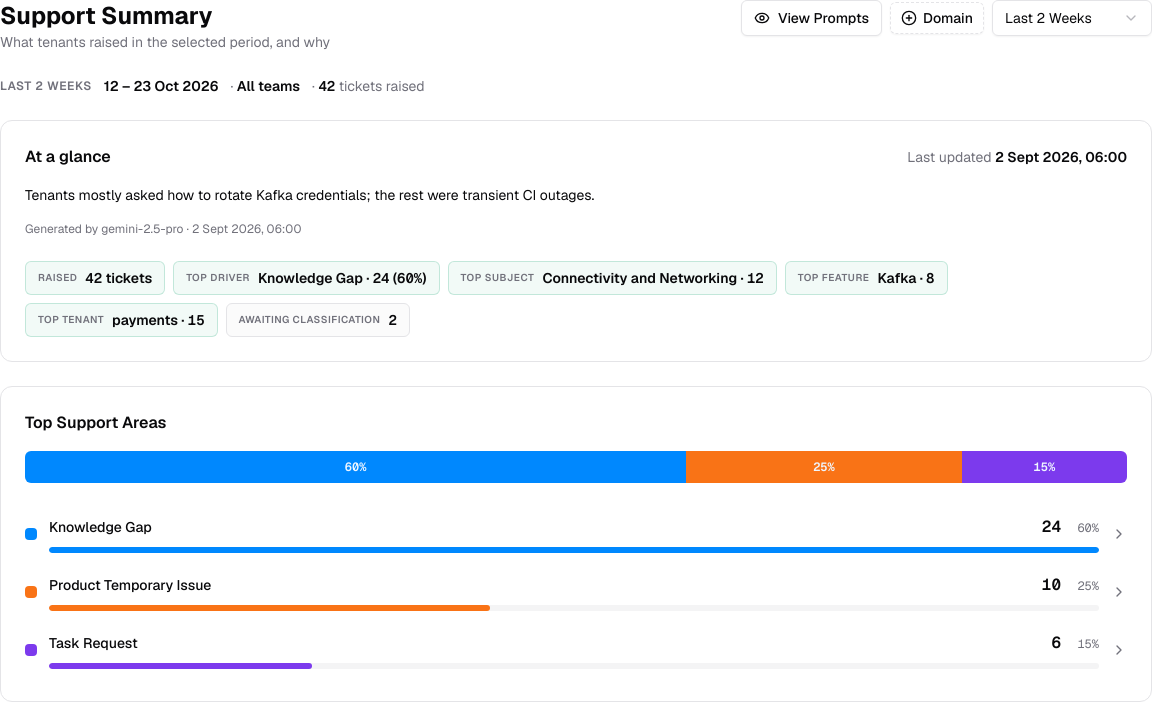
Test: SupportSummaryPage › Team groups › offers the groups under the deployment's name and narrows the summary to the one chosen
What coordinates should you click on to do the following:
click the button "Domain"
I would click on:
 (937, 18)
Its box is x1=890 y1=2 x2=984 y2=34.
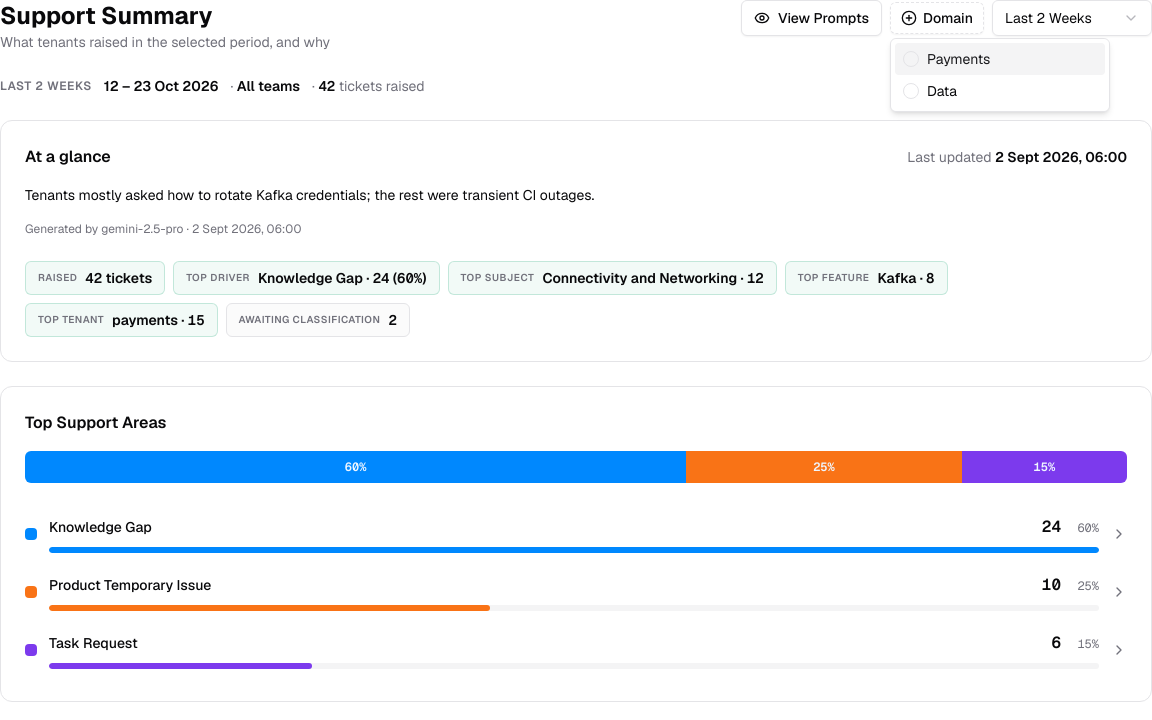
What coordinates should you click on to do the following:
click the option "Payments"
I would click on:
 (1000, 59)
Its box is x1=895 y1=43 x2=1105 y2=75.
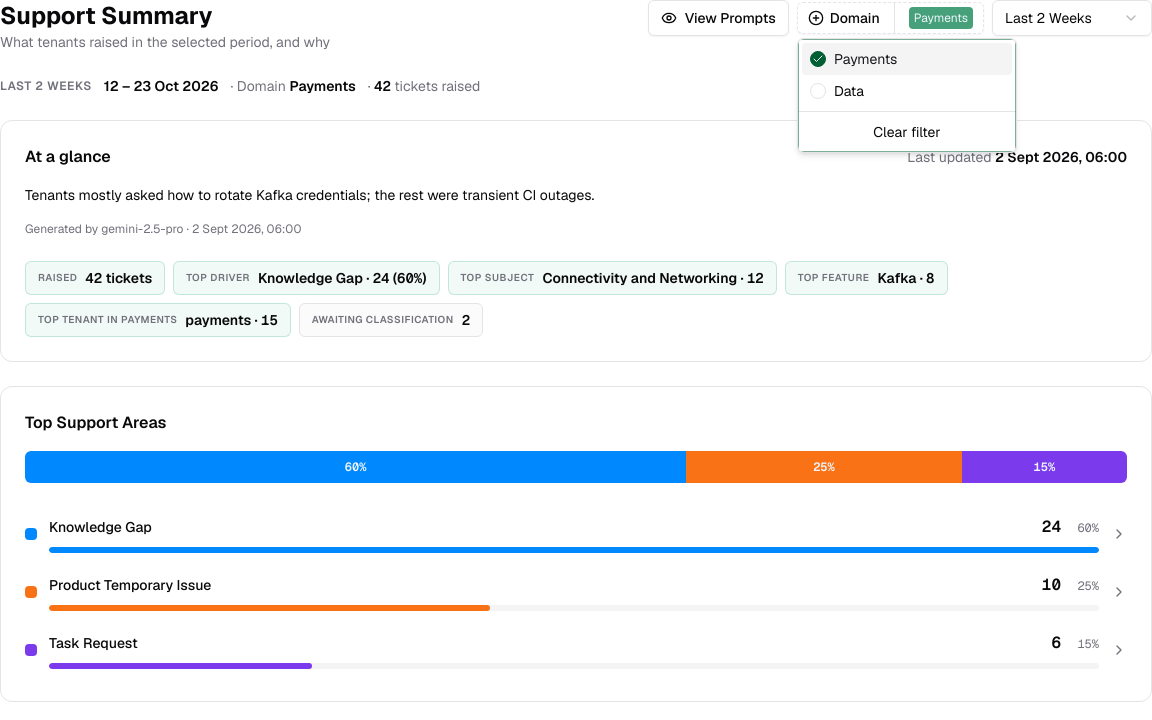
Now the element with test id "summary-scope" shows "Domain Payments", box x1=230 y1=76 x2=356 y2=96
Now the element titled "Teams: Payments Team, Ledger" next to "12 – 23 Oct 2026" is shown, box x1=237 y1=77 x2=356 y2=95
Now the text "Top tenant in Payments" is shown, box x1=38 y1=313 x2=177 y2=327
